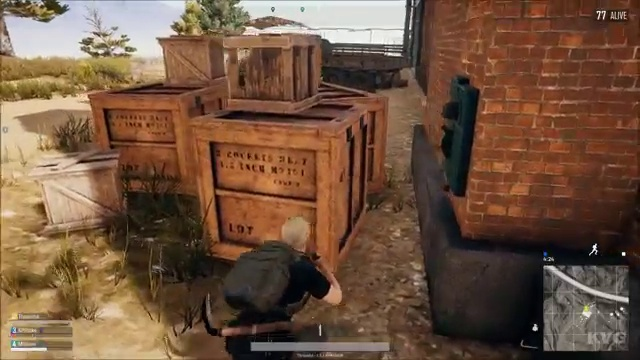Player: (201, 218, 358, 309)
